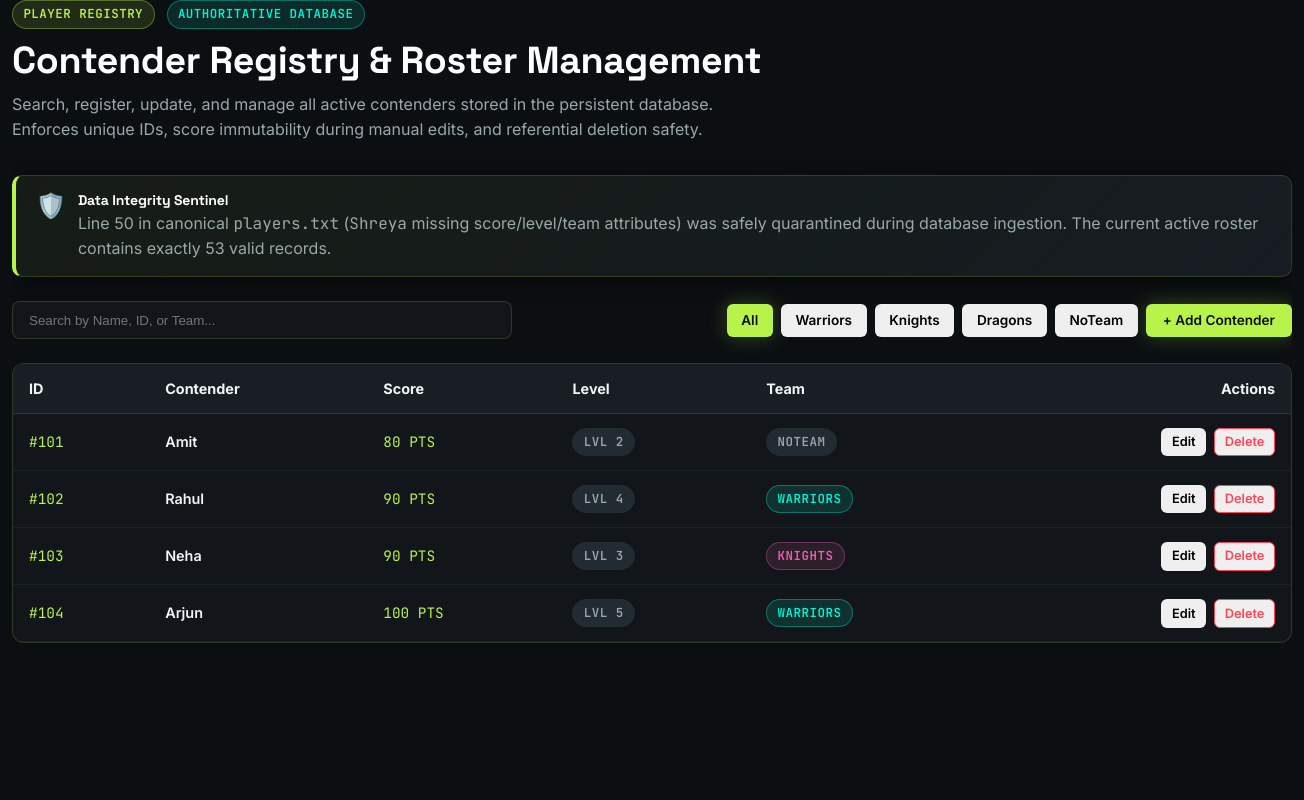
PlayerRegistryView Component › renders contender roster and filters by search query
Expected: the text "Amit" is shown, [149,414,367,470]
Expected: the text "Arjun" is shown, [149,585,367,642]
Type "Arjun" into the field with placeholder "Search by Name, ID, or Team..." at point(262, 320), box [12,301,512,339]
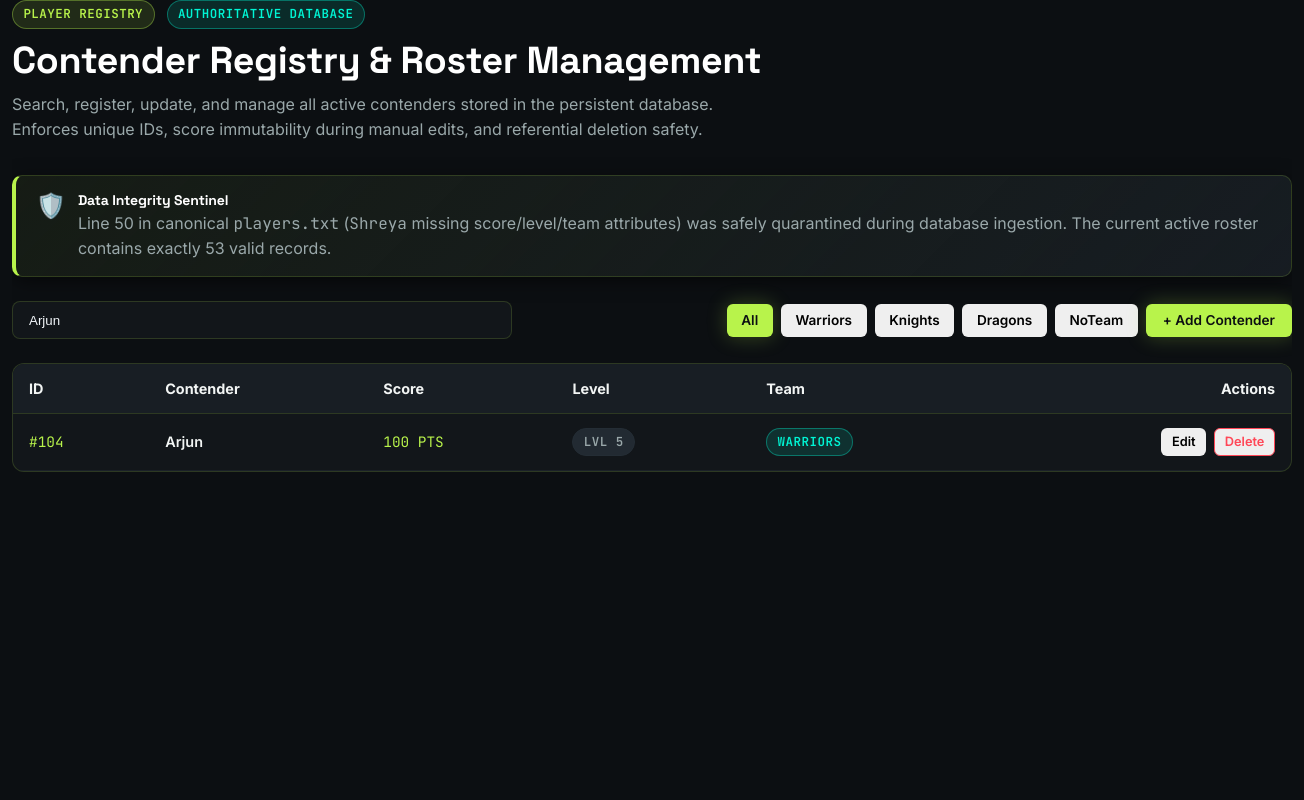
Expected: the text "Arjun" is shown, [149,414,367,470]
Expected: the text "Amit" is gone
